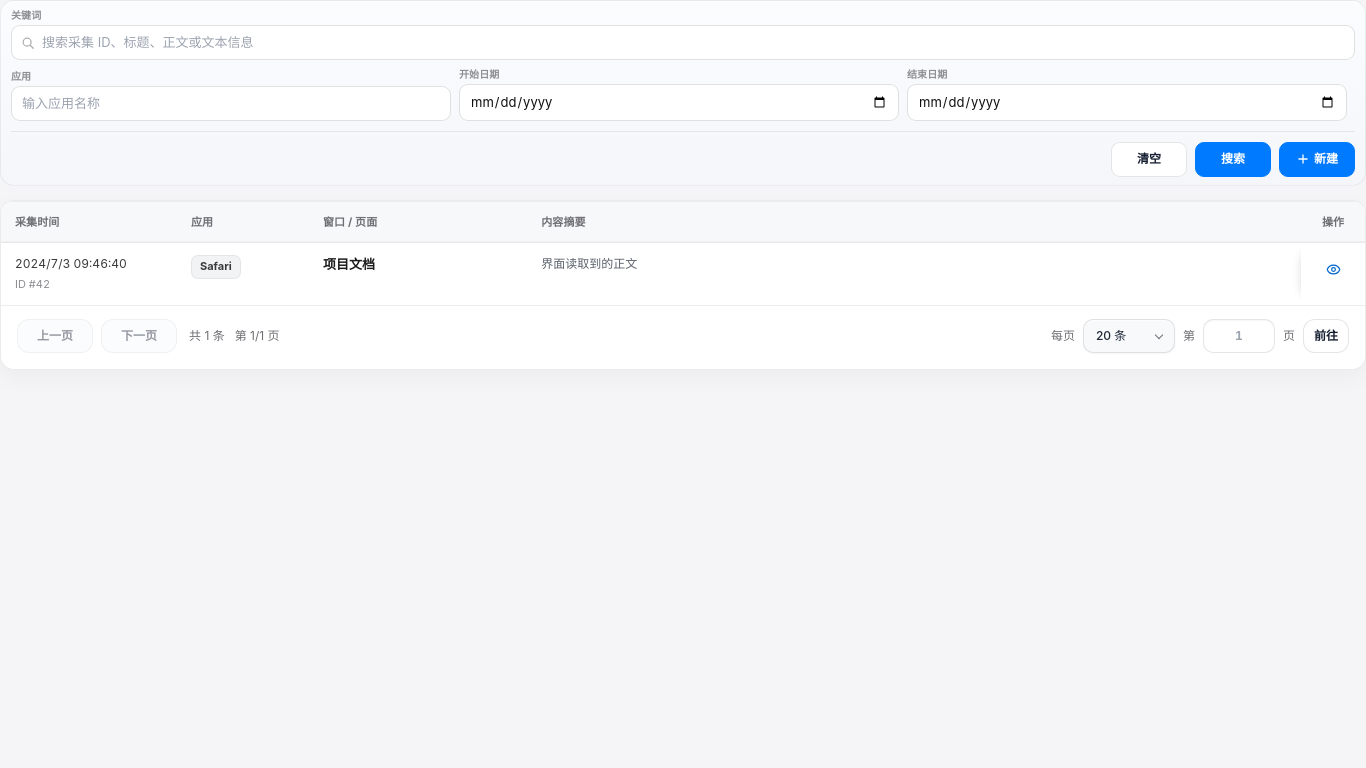
Test: 采集记录展示 › 普通模式将 AX 与 OCR 合并为文本信息，并隐藏内部片段类型
Expected: the table is shown, 1,202 -> 1365,304
Expected: the column heading "窗口 / 页面" is shown, 309,202 -> 527,243
Step 1. Click the button named "查看采集记录 #42 详情" → {"x": 1333, "y": 269}, box 1319,255 -> 1347,283
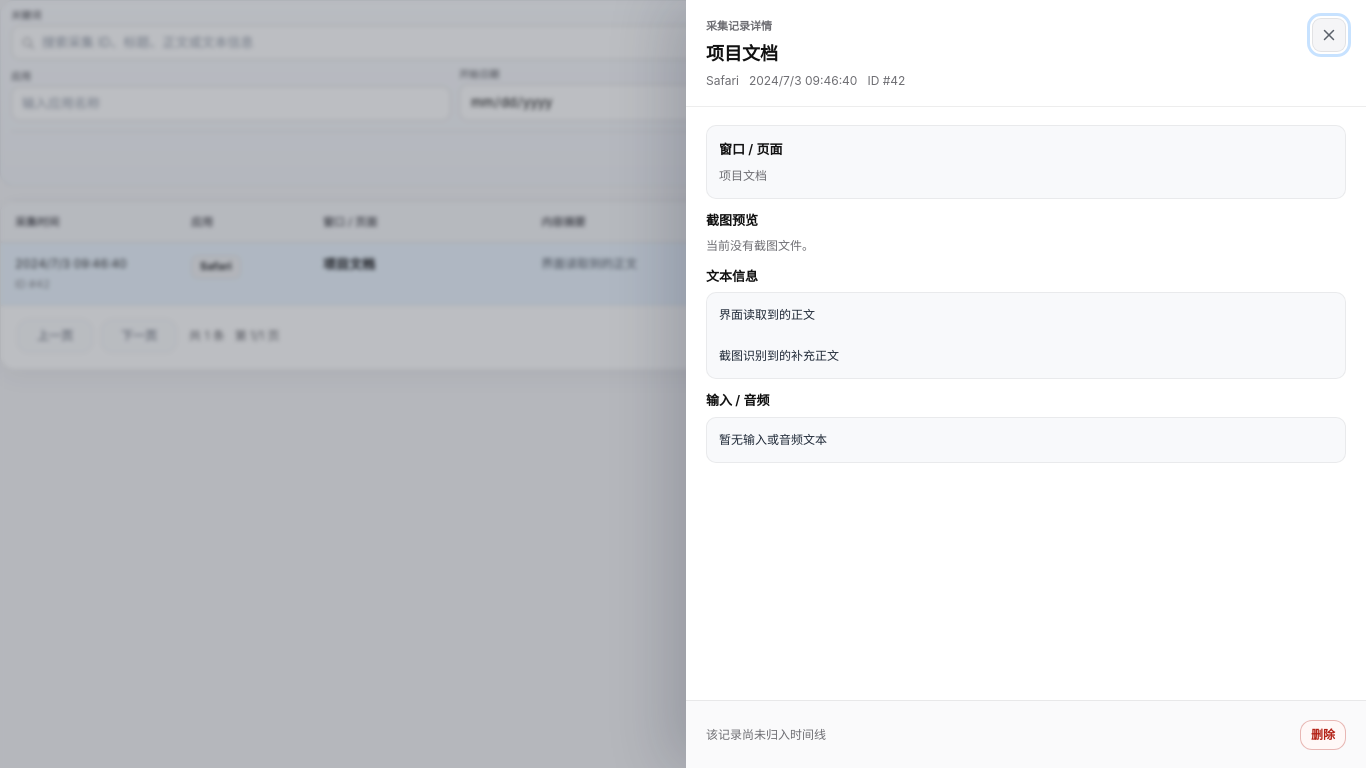
Expected: the field with placeholder "搜索采集 ID、标题、正文或文本信息" is shown, 11,25 -> 1355,60
Expected: the dialog "项目文档" is shown, 686,0 -> 1365,767
